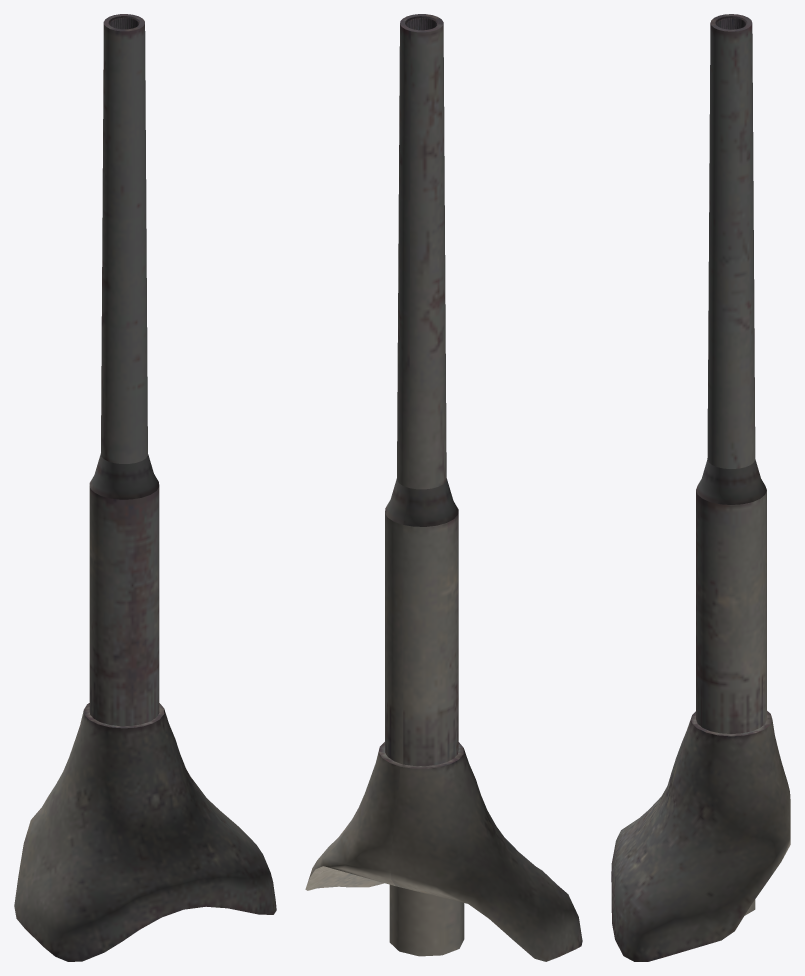
File: Gun_04.glb
3 views of the same model, side by side, from view 1: azimuth 30°, elevation 25°; view 2: azimuth 150°, elevation 25°; view 3: azimuth 270°, elevation 25° (orthographic). The views are drawn at different scales.
Visible parts, largest first — view 1: set_0_group_0; view 2: set_0_group_0; view 3: set_0_group_0.
Boxes of the visible parts, x1=… form: set_0_group_0: x1=14, y1=14, x2=276, y2=961; set_0_group_0: x1=305, y1=14, x2=582, y2=961; set_0_group_0: x1=611, y1=14, x2=790, y2=961.
Size of the model in its own units: 0.8002 by 2.94 by 0.5374.
1 material, 1 textured.
